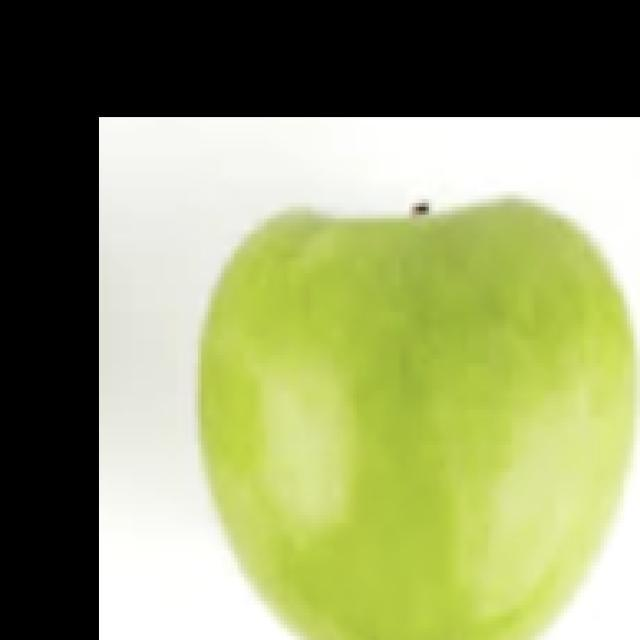Apple: (197, 196, 637, 639)
